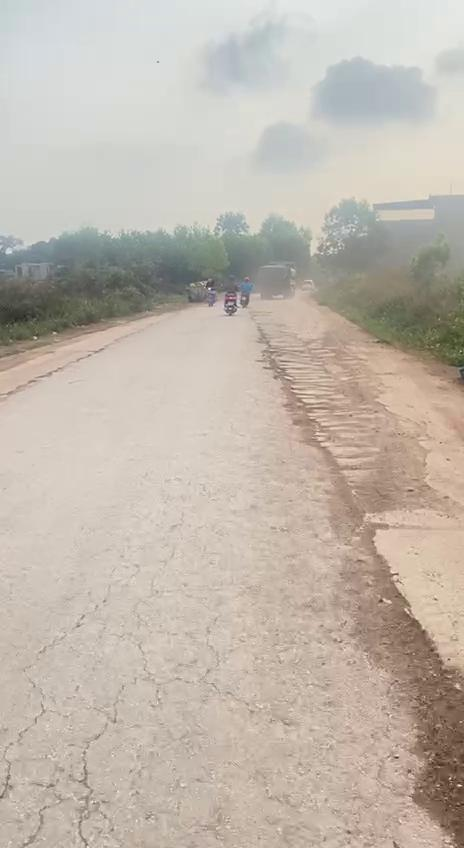pothole: (347, 574, 464, 848)
